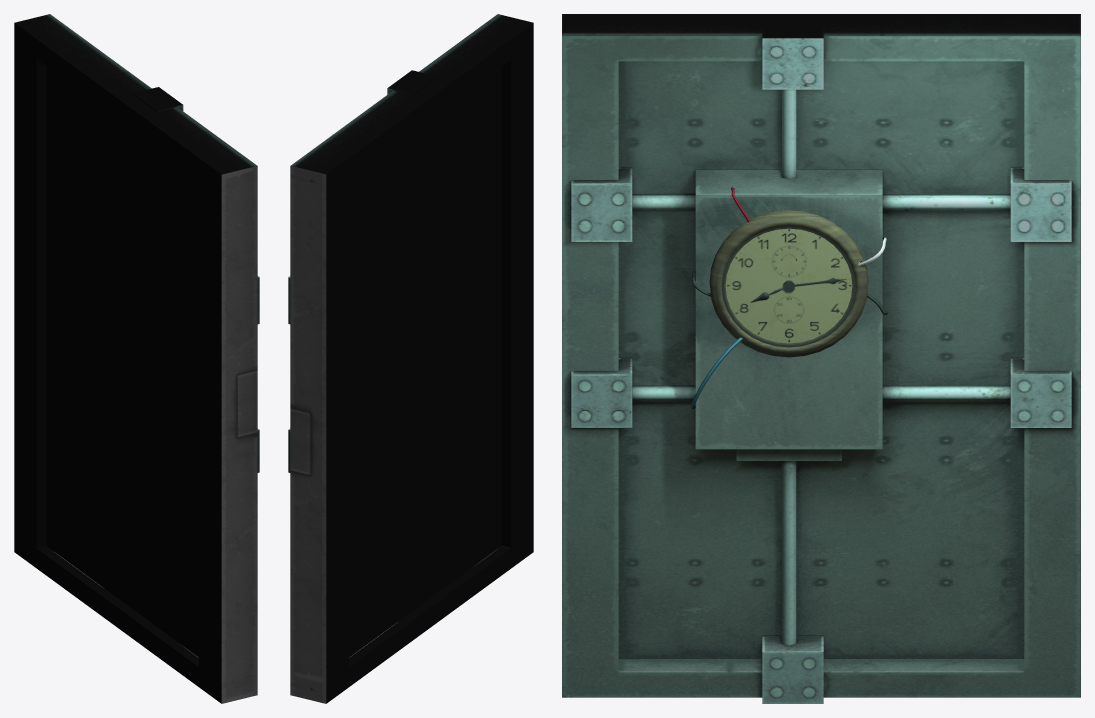
File: level_warehouse_bunker_door.glb
The picture shows the model from 3 angles, left to right: view 1: azimuth 30°, elevation 25°; view 2: azimuth 150°, elevation 25°; view 3: azimuth 270°, elevation 25°; orthographic projection. The views are drawn at different scales.
Parts seen in each view (by area): view 1: Huone2_turvaovi; view 2: Huone2_turvaovi; view 3: Huone2_turvaovi, Huone2_lukkokonsoli.
Part boxes in pixels (x1,y1,x2,y2): Huone2_turvaovi: [14, 14, 259, 703]; Huone2_turvaovi: [288, 14, 533, 703]; Huone2_turvaovi: [562, 14, 1080, 703]; Huone2_lukkokonsoli: [690, 187, 887, 409].
Bounding box in the file's own units: 2.81 × 20.9 × 14.76.
2 materials, 2 textured.
